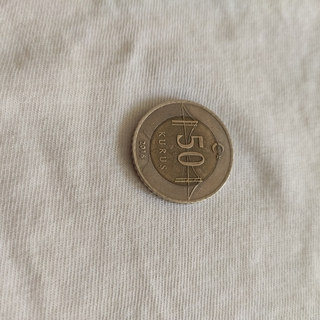50KURUS: (128, 98, 234, 205)
